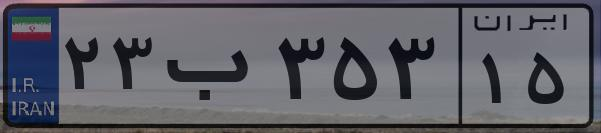1: (475, 38, 525, 113)
2: (57, 26, 110, 100)
3: (270, 28, 330, 110), (385, 28, 445, 110), (110, 28, 158, 98)
5: (330, 28, 385, 110), (525, 38, 570, 115)
ب: (158, 20, 270, 120)
